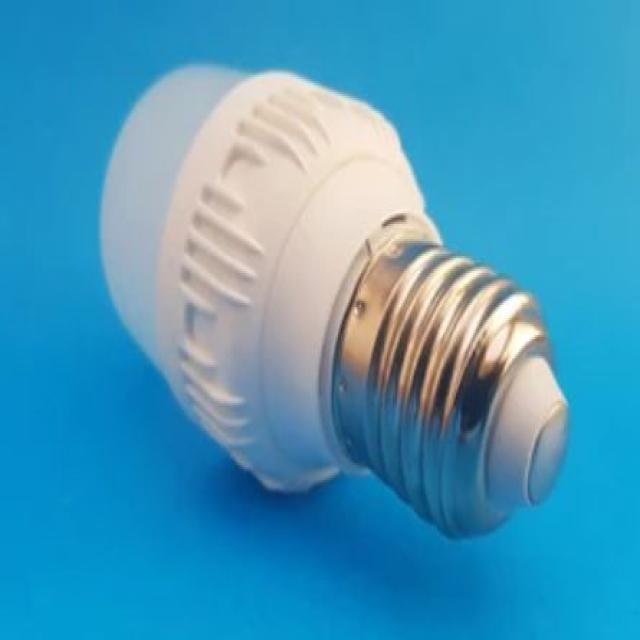electronic: (98, 59, 569, 540)
